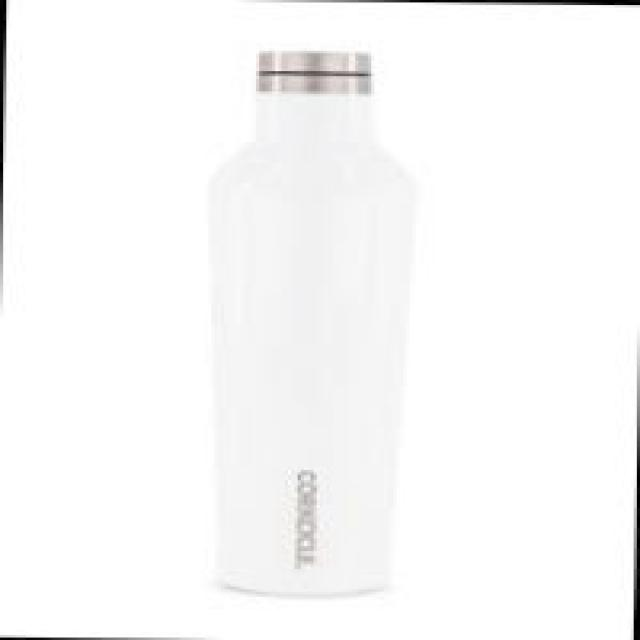bottle: (196, 47, 418, 598)
